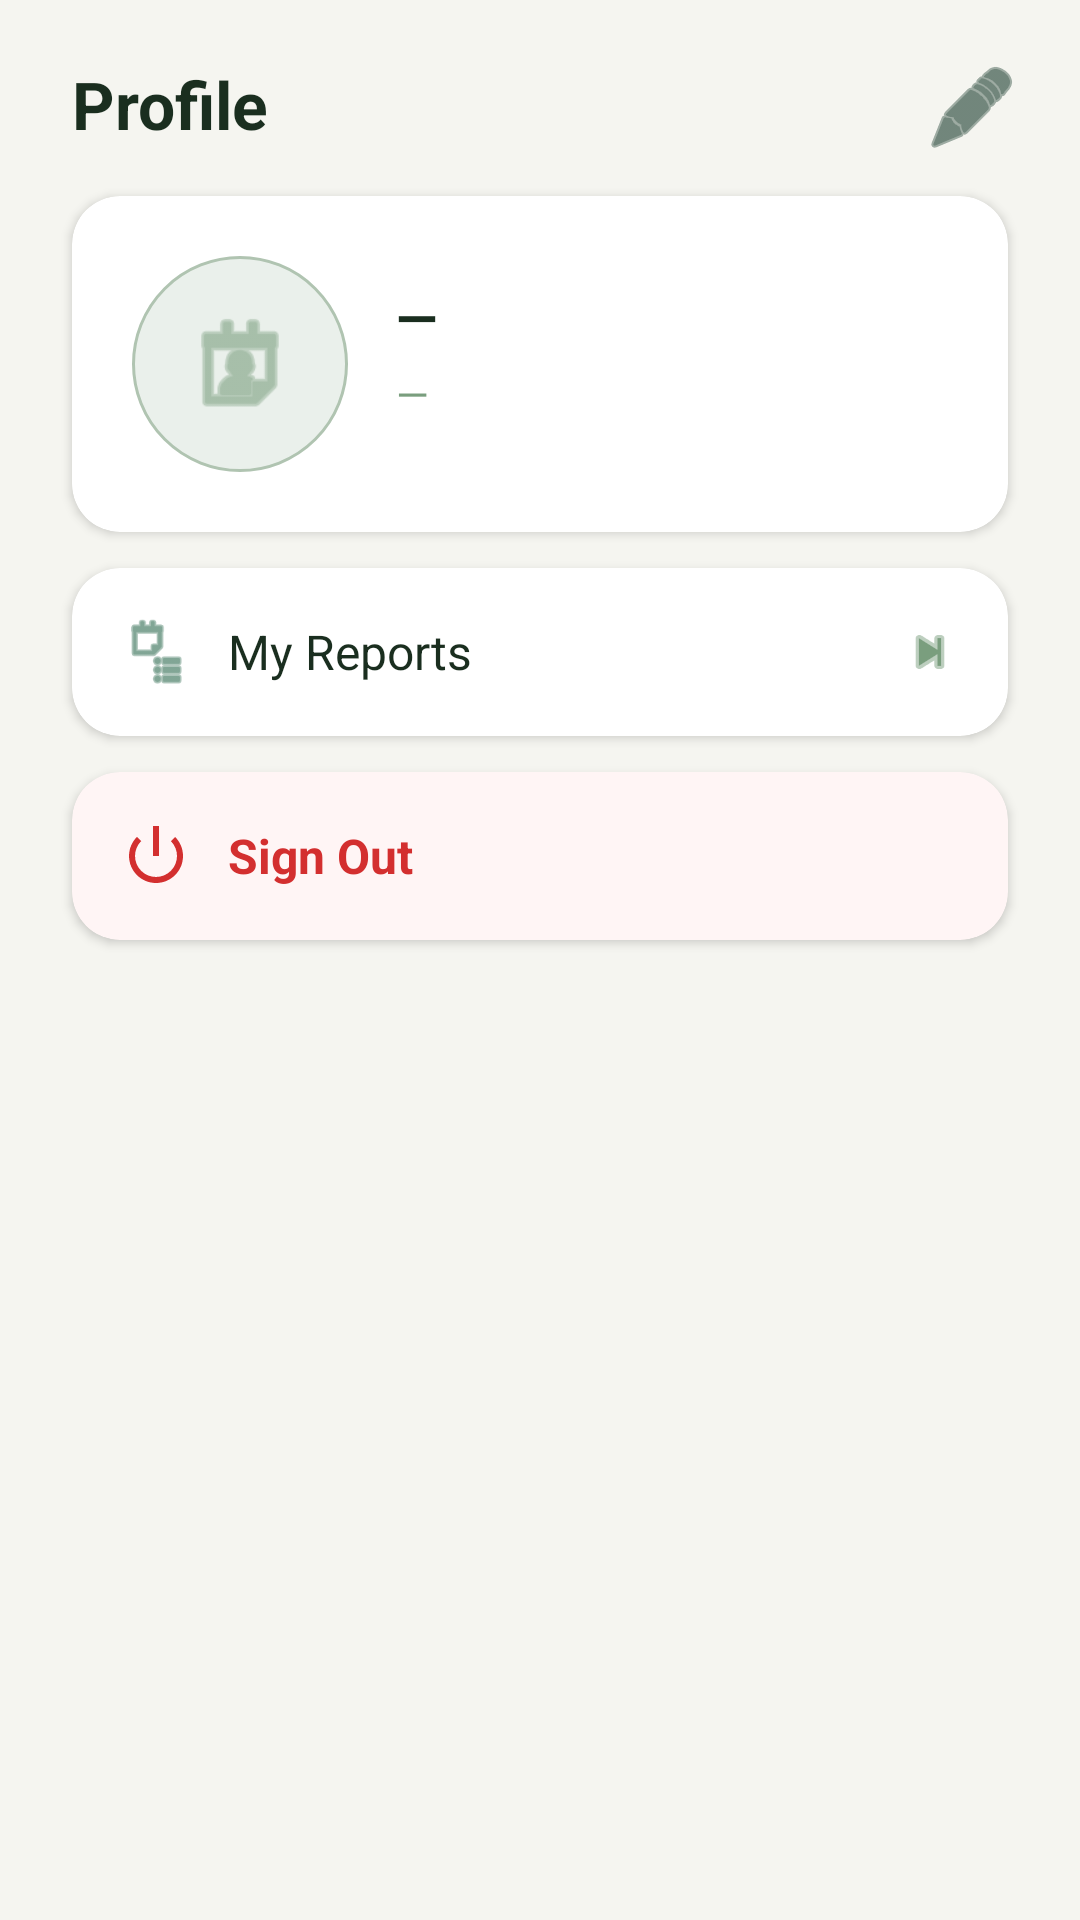

Named icons in this screenshot (1080px×1920px) and their centers, (x=x, y=y):
Edit profile: (x=971, y=107)
